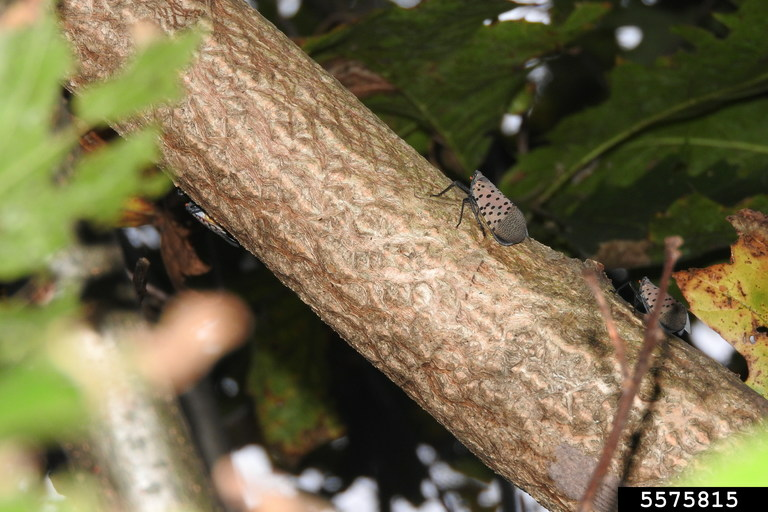adult: (438, 153, 529, 251), (631, 272, 690, 337)
